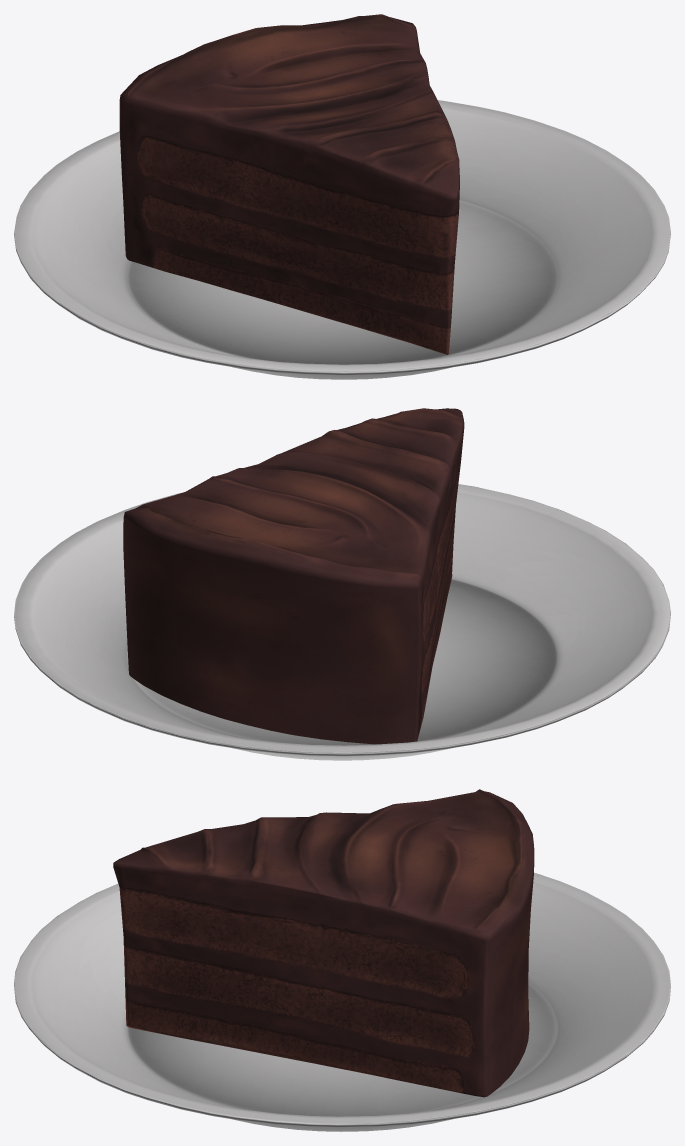
The model's file is chocom2.glb.
3 renders of one model, top to bottom at view 1: azimuth 30°, elevation 25°; view 2: azimuth 150°, elevation 25°; view 3: azimuth 270°, elevation 25°, orthographic.
Parts seen in each view (by area): view 1: node_id30_1; view 2: node_id30_1; view 3: node_id30_1.
Boxes of the visible parts, <box> form: node_id30_1: <box>14,14,670,379</box>; node_id30_1: <box>14,408,670,760</box>; node_id30_1: <box>14,789,670,1131</box>.
Bounding box in the file's own units: 0.512 × 0.1667 × 0.5122.
Materials: 1 (1 with a texture image).
